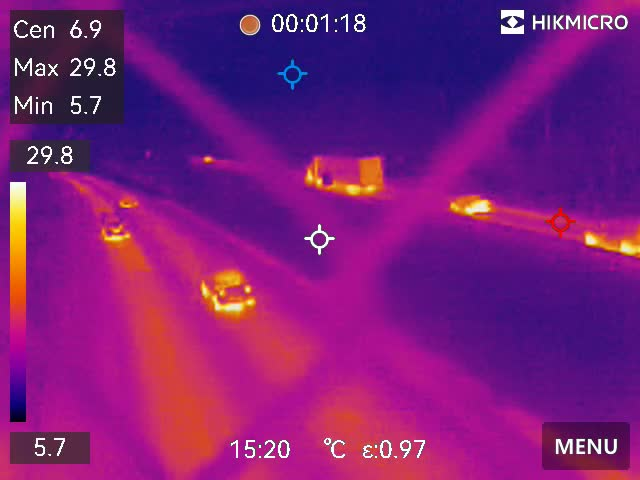heavyTruck: (305, 156, 384, 195)
vehicle: (198, 263, 261, 310)
